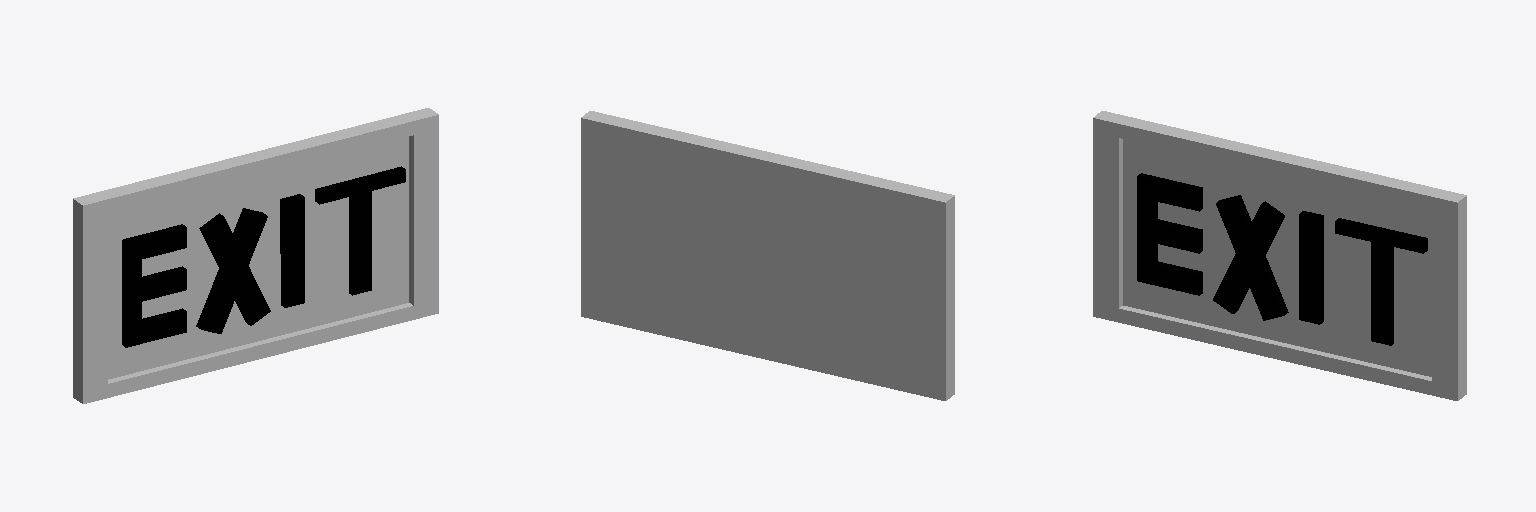
The model's file is Sign.obj.
The picture shows the model from 3 angles: view 1: azimuth 30°, elevation 25°; view 2: azimuth 150°, elevation 25°; view 3: azimuth 330°, elevation 25°; orthographic projection.
Visible parts, largest first — view 1: CoreMaterialBuild.277_Cube.499; view 2: CoreMaterialBuild.277_Cube.499; view 3: CoreMaterialBuild.277_Cube.499.
Boxes of the visible parts, x1,y1,x2,y2 form: CoreMaterialBuild.277_Cube.499: [73, 108, 438, 403]; CoreMaterialBuild.277_Cube.499: [581, 111, 954, 400]; CoreMaterialBuild.277_Cube.499: [1093, 111, 1466, 400].
Bounding box in the file's own units: 0.6629 × 0.3491 × 0.0453.